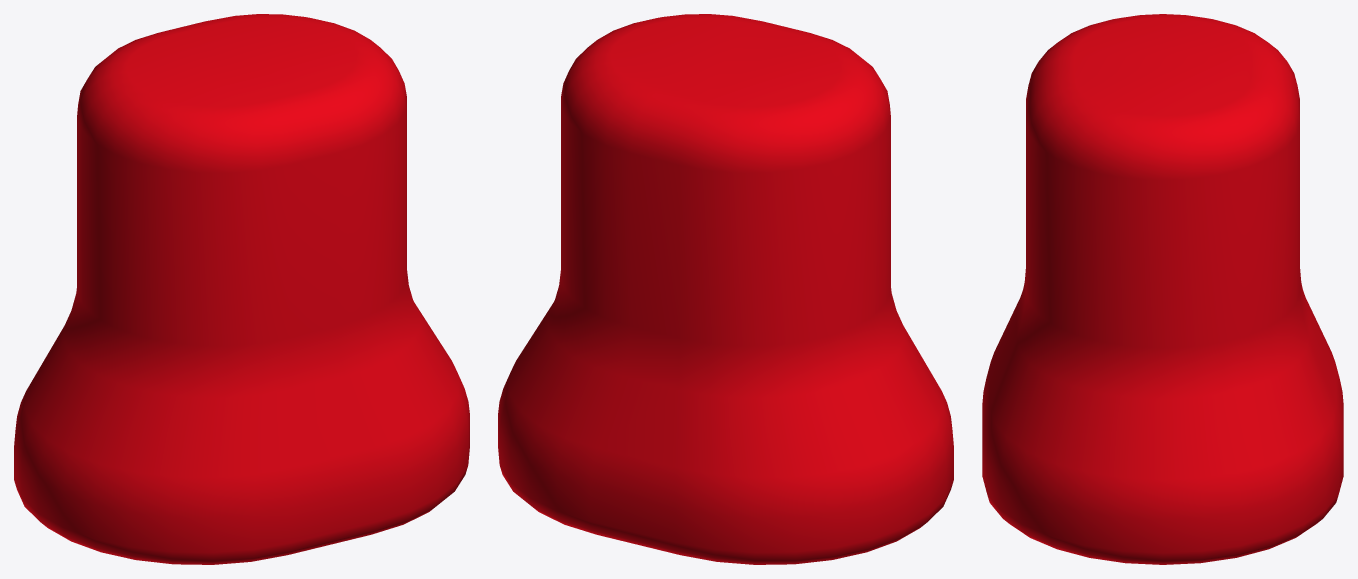
File: rubber 3.fbx
The picture shows the model from 3 angles, left to right: view 1: azimuth 30°, elevation 25°; view 2: azimuth 150°, elevation 25°; view 3: azimuth 270°, elevation 25°; orthographic projection. The views are drawn at different scales.
Parts seen in each view (by area): view 1: Cube.001; view 2: Cube.001; view 3: Cube.001.
Boxes of the visible parts, x1,y1,x2,y2 form: Cube.001: [14, 14, 469, 564]; Cube.001: [498, 14, 953, 564]; Cube.001: [982, 14, 1343, 564].
Bounding box in the file's own units: 123 × 121 × 97.17.
Materials: 1 (1 with a texture image).
